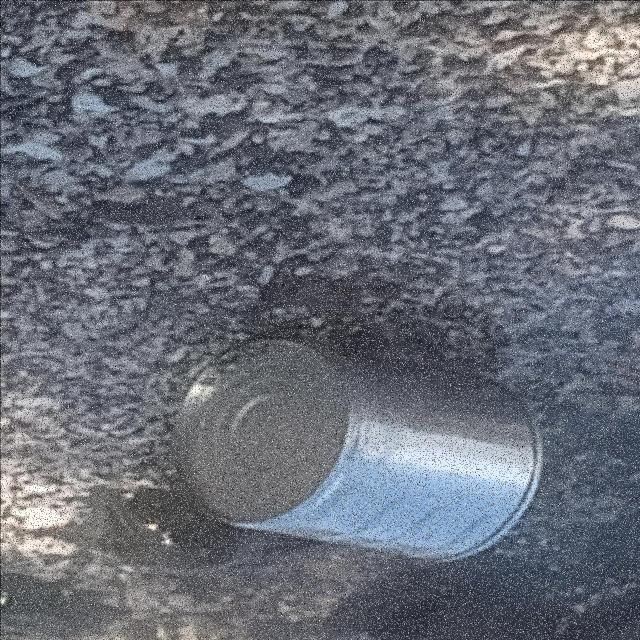metal_waste: (176, 336, 546, 564)
